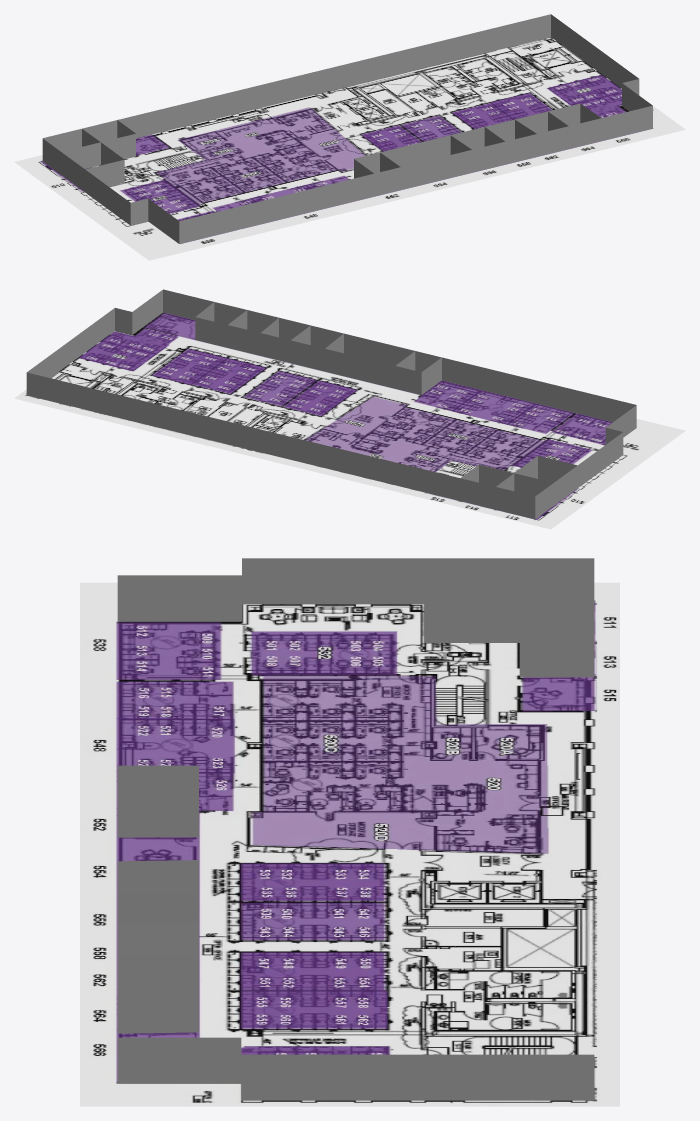
Rendered from floorplan_5th.glb.
3 views of the same model, one above another, from view 1: azimuth 30°, elevation 25°; view 2: azimuth 150°, elevation 25°; view 3: azimuth 270°, elevation 25° (orthographic). The views are drawn at different scales.
Visible parts, largest first — view 1: fifthfloor, Plane; view 2: fifthfloor, Plane; view 3: fifthfloor, Plane.
Part boxes in pixels (x1=…): fifthfloor: x1=14, y1=37, x2=685, y2=260; Plane: x1=42, y1=14, x2=652, y2=243; fifthfloor: x1=14, y1=312, x2=685, y2=529; Plane: x1=26, y1=289, x2=636, y2=519; fifthfloor: x1=80, y1=582, x2=619, y2=1106; Plane: x1=117, y1=558, x2=594, y2=1100.
Size of the model in its own units: 6.89 by 0.2816 by 3.
2 materials, 1 textured.
